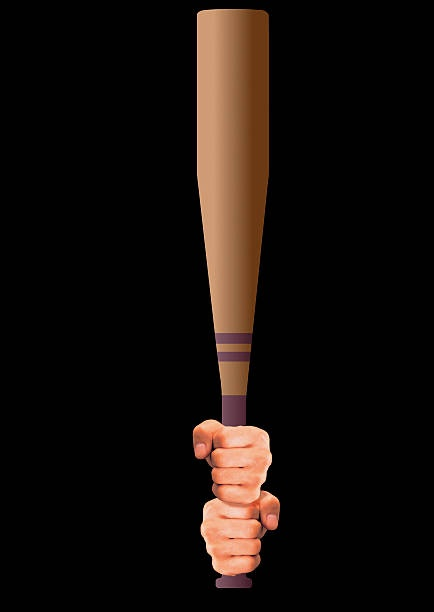bita: (196, 9, 272, 585)
